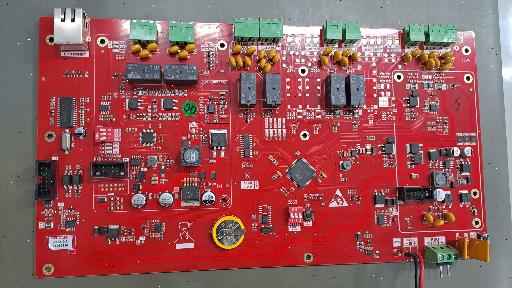var: (467, 236, 490, 262), (457, 237, 469, 259), (339, 56, 349, 68), (419, 52, 429, 64), (444, 212, 455, 222), (320, 56, 329, 68), (184, 44, 195, 53), (333, 51, 342, 62), (403, 52, 412, 63), (138, 50, 150, 58), (267, 48, 275, 60), (438, 64, 451, 71), (229, 56, 236, 69), (442, 57, 455, 64), (440, 51, 453, 58), (262, 63, 271, 73), (257, 58, 266, 68), (147, 43, 158, 51), (178, 51, 189, 59), (245, 46, 256, 54), (130, 44, 141, 52), (322, 47, 333, 55), (271, 53, 279, 64), (257, 49, 265, 60), (244, 56, 251, 68), (236, 56, 243, 68), (411, 49, 421, 57), (232, 45, 242, 53), (168, 46, 179, 53), (352, 52, 359, 62), (0, 0, 5, 5), (0, 0, 6, 4), (0, 0, 4, 5), (0, 0, 5, 4)
